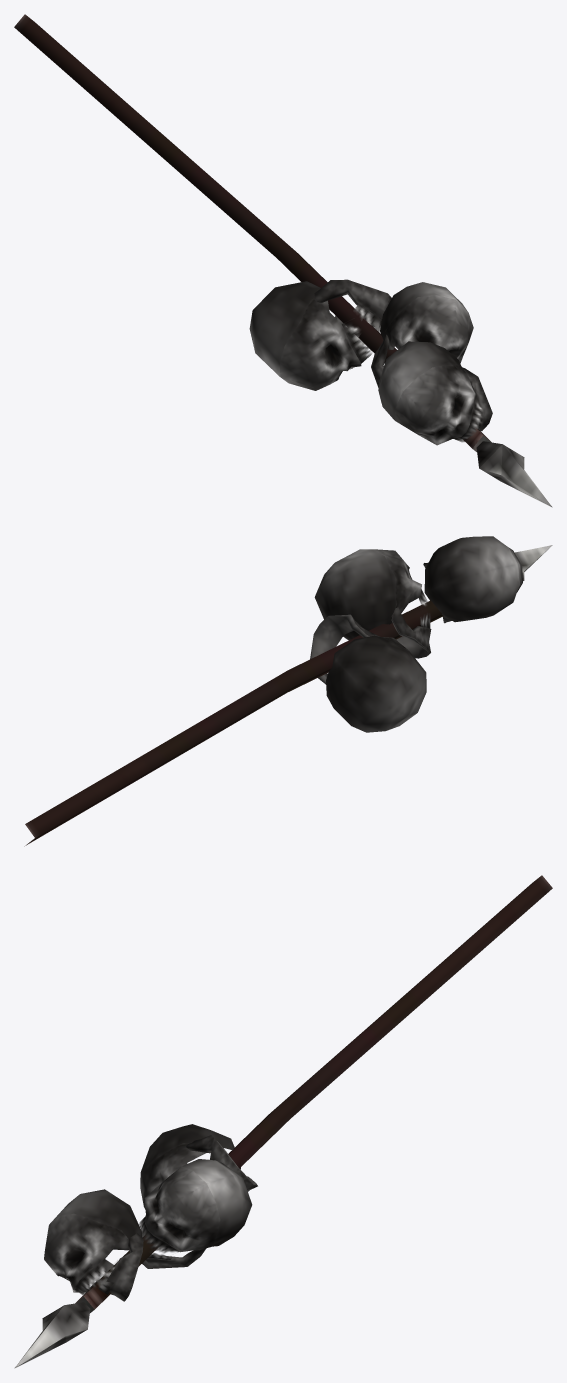
3 views of the same model, one above another, from view 1: azimuth 30°, elevation 25°; view 2: azimuth 150°, elevation 25°; view 3: azimuth 330°, elevation 25° (orthographic).
Visible parts, largest first — view 1: model_Object82; view 2: model_Object82; view 3: model_Object82.
Part boxes in pixels (x1=…): model_Object82: x1=14, y1=14, x2=552, y2=507; model_Object82: x1=24, y1=536, x2=552, y2=846; model_Object82: x1=14, y1=875, x2=552, y2=1368.
Size of the model in its own units: 0.3256 by 0.2591 by 1.96.
1 material, 1 textured.
